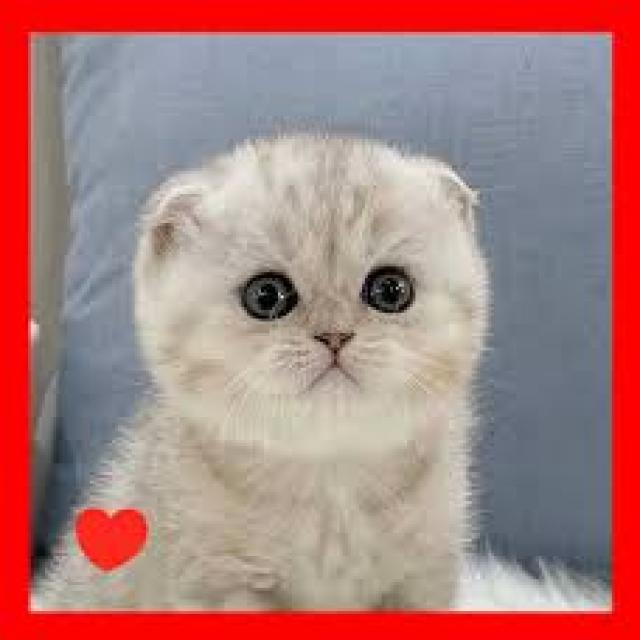cat-face: (97, 87, 540, 463)
